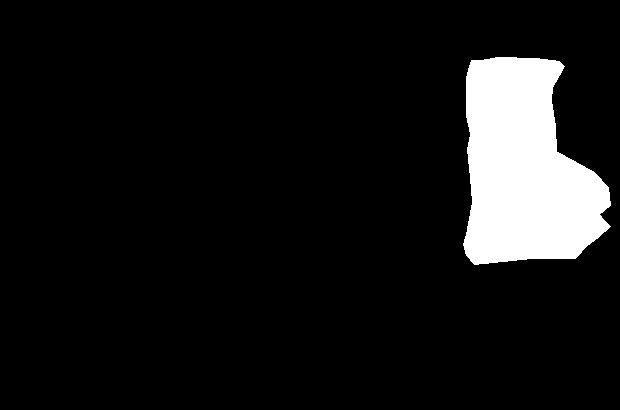type4: (453, 54, 613, 269)
